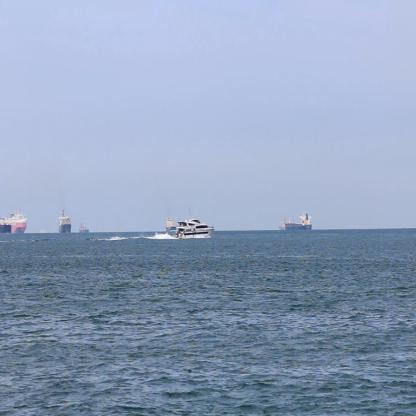Container Ship: (277, 212, 314, 231), (58, 207, 72, 238), (4, 215, 29, 232), (76, 220, 92, 236), (164, 214, 177, 233), (0, 219, 13, 237)
